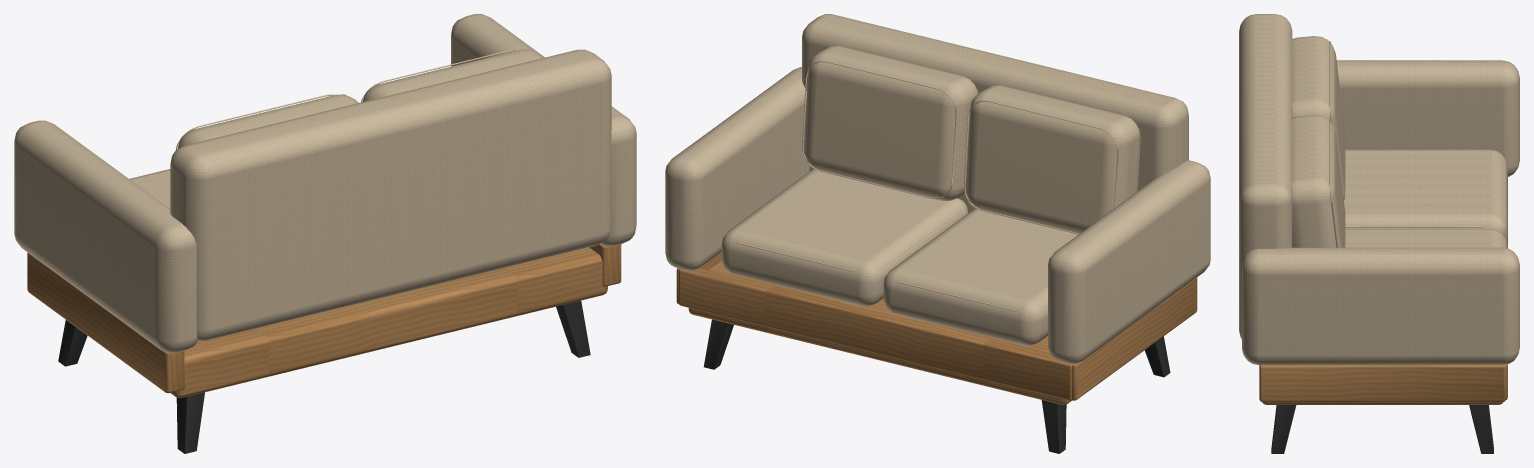
The model's file is sofa.glb.
The picture shows the model from 3 angles, left to right: view 1: azimuth 30°, elevation 25°; view 2: azimuth 150°, elevation 25°; view 3: azimuth 270°, elevation 25°; orthographic projection. The views are drawn at different scales.
Visible parts, largest first — view 1: SM_sofa; view 2: SM_sofa; view 3: SM_sofa.
Part boxes in pixels (bbox=[...]): SM_sofa: bbox=[14, 14, 636, 453]; SM_sofa: bbox=[665, 14, 1210, 453]; SM_sofa: bbox=[1239, 14, 1519, 453].
Size of the model in its own units: 1.35 by 0.82 by 0.78.
Materials: 3 (2 with a texture image).
